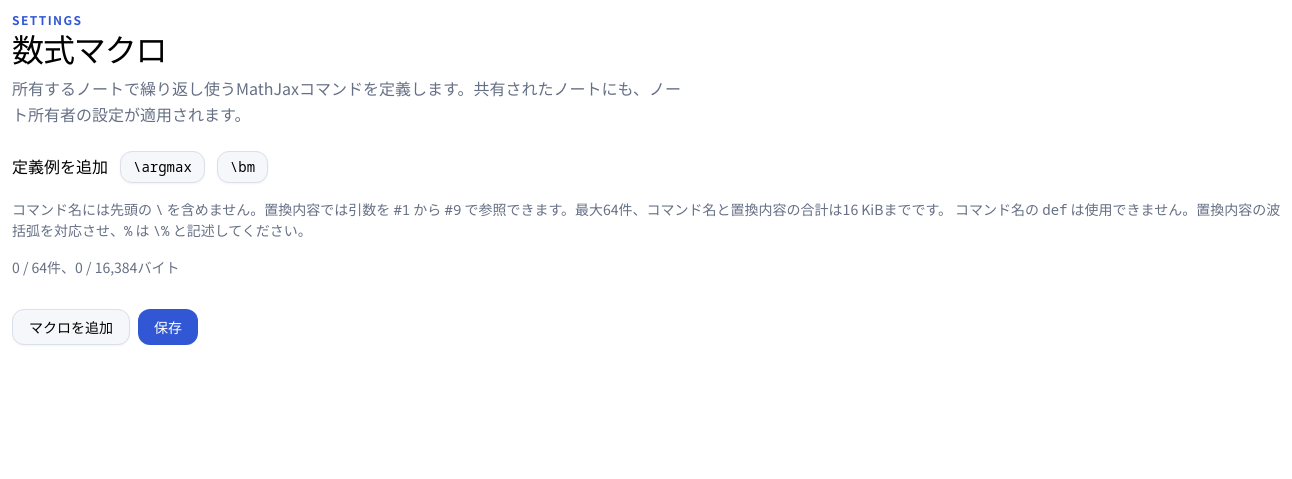
Test: Application › 所有者の数式マクロ設定を読み込み、定義例を追加できる
The image size is (1292, 479).
Click the button "\\argmax": click(162, 167) [120,151,205,183]
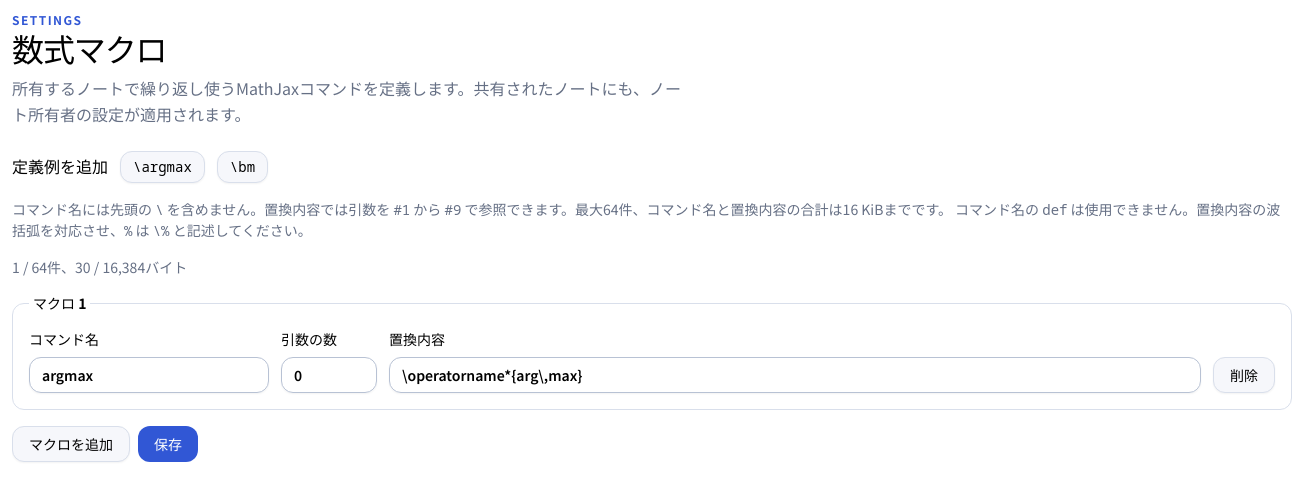
Expected: the field labelled "コマンド名" holds "argmax", [29,357,269,393]
Expected: the field labelled "置換内容" holds "\\operatorname*{arg\\,max}", [389,357,1201,393]
